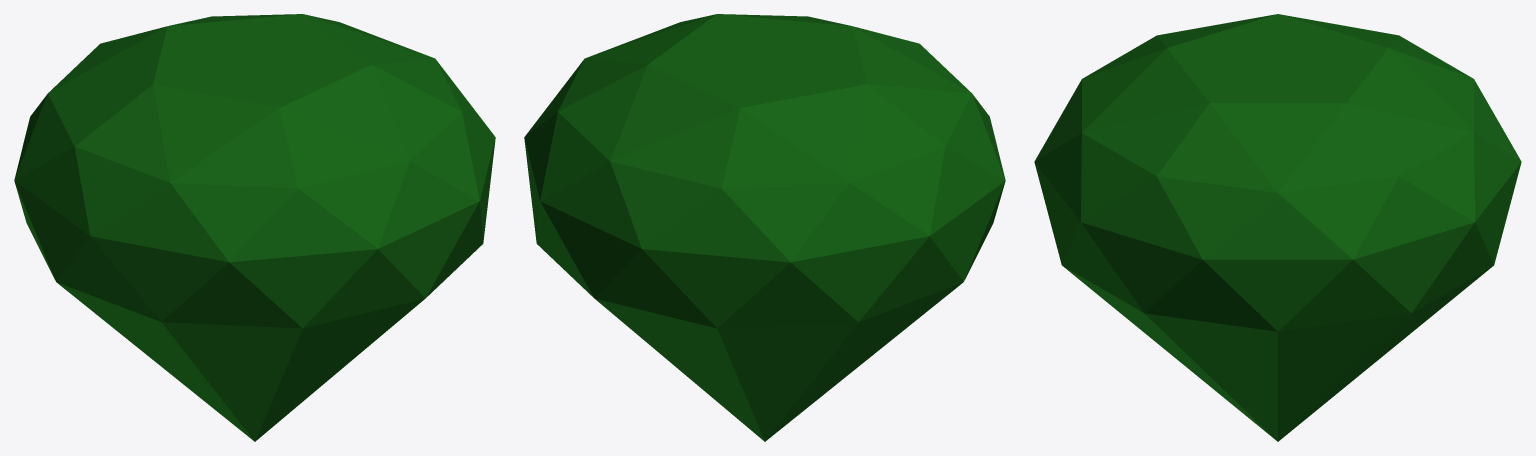
The model's file is GemGreenHud.obj.
3 renders of one model, left to right at view 1: azimuth 30°, elevation 25°; view 2: azimuth 150°, elevation 25°; view 3: azimuth 270°, elevation 25°, orthographic.
Parts seen in each view (by area): view 1: GemGreenHud; view 2: GemGreenHud; view 3: GemGreenHud.
Boxes of the visible parts, bbox=[...] form: GemGreenHud: bbox=[14, 14, 495, 441]; GemGreenHud: bbox=[524, 14, 1005, 441]; GemGreenHud: bbox=[1034, 14, 1521, 441].
Size of the model in its own units: 91.14 by 82.18 by 95.83.
Materials: 1 (1 with a texture image).
